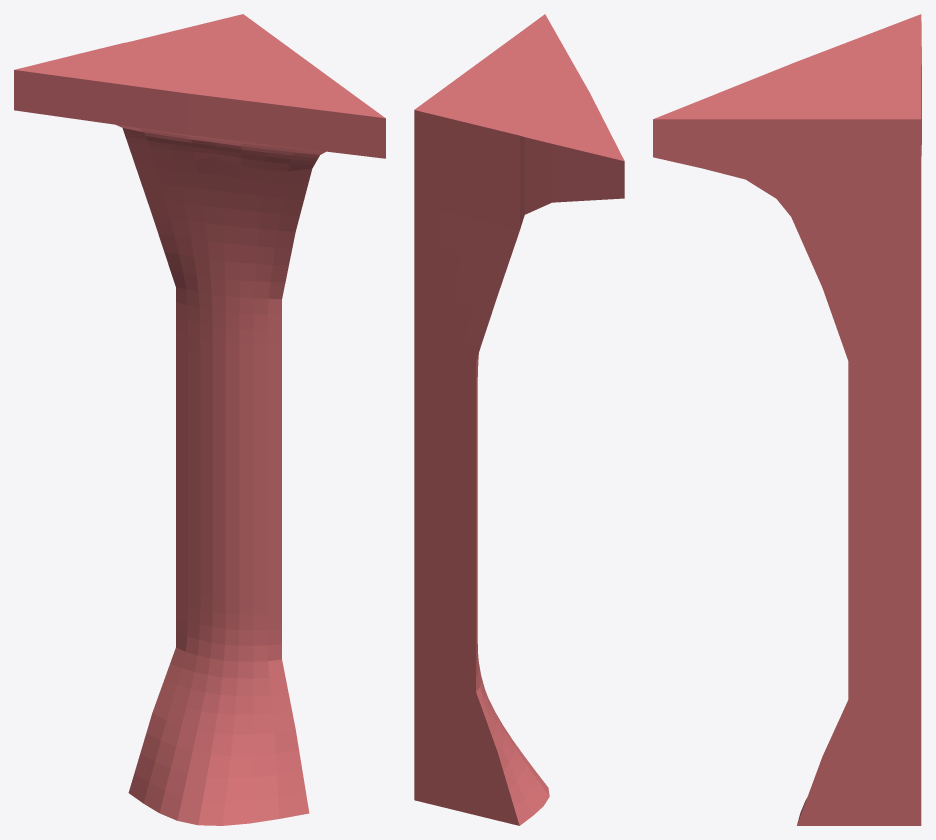
The model's file is 08-CaveTileCorner.fbx.
3 views of the same model, side by side, from view 1: azimuth 30°, elevation 25°; view 2: azimuth 150°, elevation 25°; view 3: azimuth 270°, elevation 25° (orthographic). The views are drawn at different scales.
Visible parts, largest first — view 1: CaveTileCorner; view 2: CaveTileCorner; view 3: CaveTileCorner.
Part boxes in pixels (bbox=[...]): CaveTileCorner: bbox=[14, 14, 385, 825]; CaveTileCorner: bbox=[414, 14, 624, 825]; CaveTileCorner: bbox=[653, 14, 921, 825].
Bounding box in the file's own units: 160 × 501 × 173.
